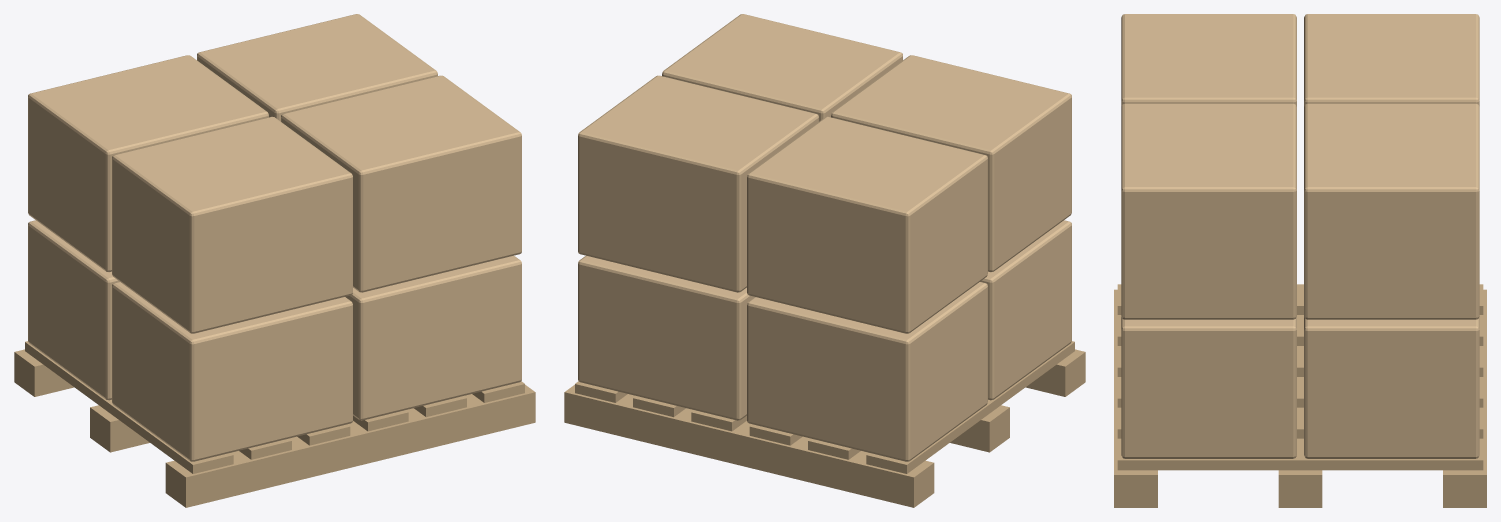
The model's file is Palet.fbx.
3 views of the same model, side by side, from view 1: azimuth 30°, elevation 25°; view 2: azimuth 150°, elevation 25°; view 3: azimuth 270°, elevation 25° (orthographic). The views are drawn at different scales.
Visible parts, largest first — view 1: Cuerpo; view 2: Cuerpo; view 3: Cuerpo.
Part boxes in pixels (x1,y1,x2,y2): Cuerpo: (14, 14, 535, 507); Cuerpo: (564, 14, 1085, 507); Cuerpo: (1114, 14, 1486, 507).
Bounding box in the file's own units: 1.2 × 0.95 × 1.02.
